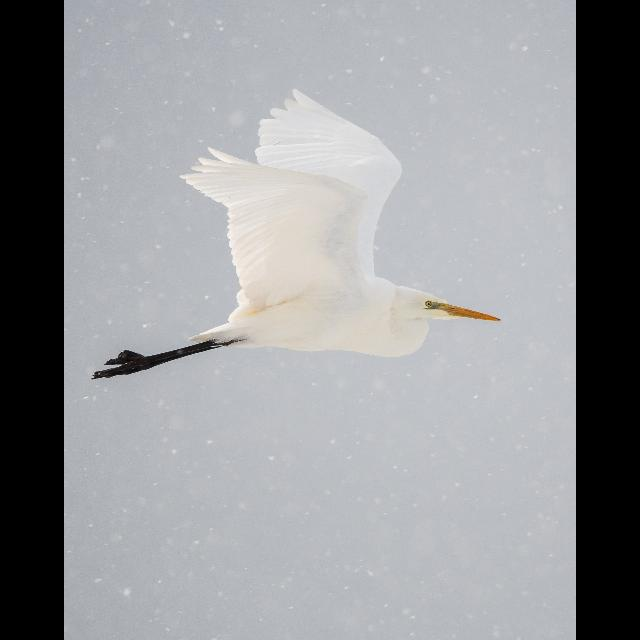egret: (91, 85, 505, 403)
